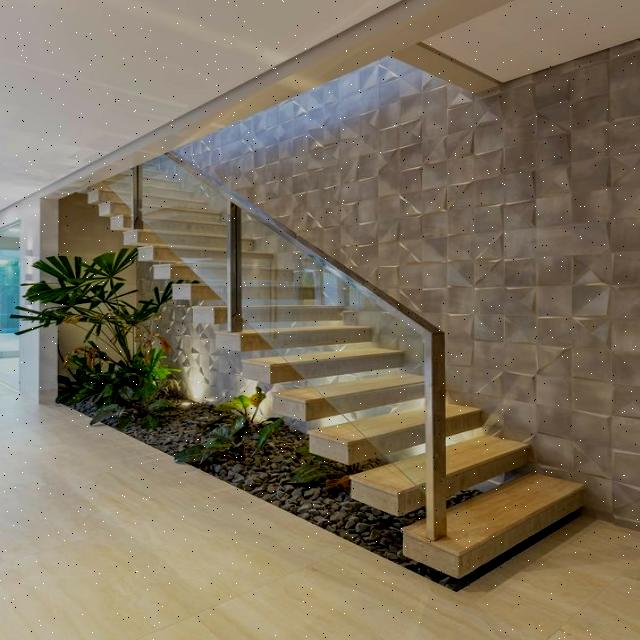stairs: (82, 160, 586, 582)
